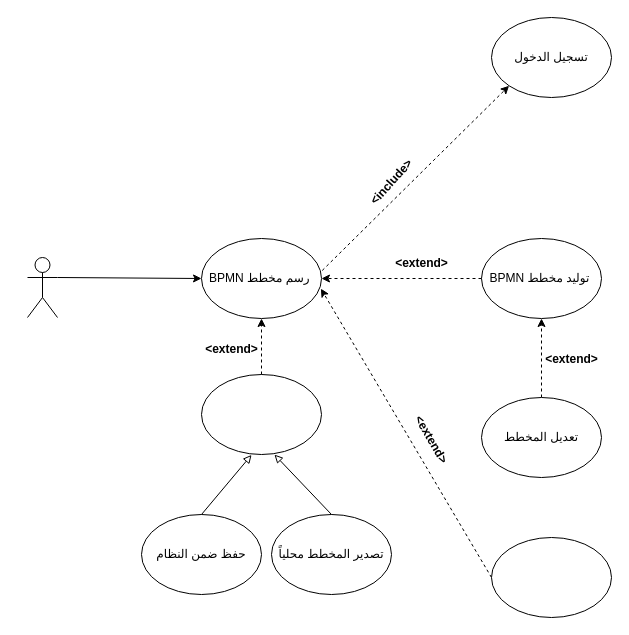
Image size: 629x635. Some labels were removed from this diagram. The centre of each missing label's shape, as x and y in pixels:
"BPMN توليد تقرير عن" belongs at pixel 551 577.
"المستخدم" belongs at pixel 42 287.
"حفظ المخطط" belongs at pixel 261 414.
